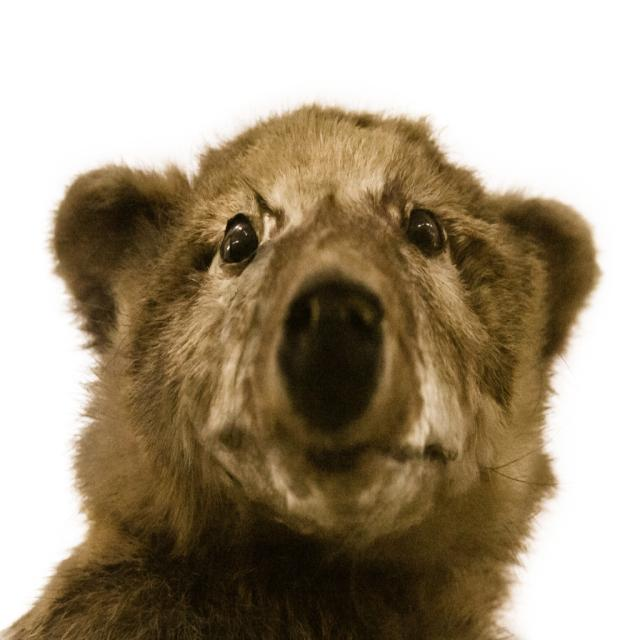Cheetahs: (0, 103, 601, 640)
